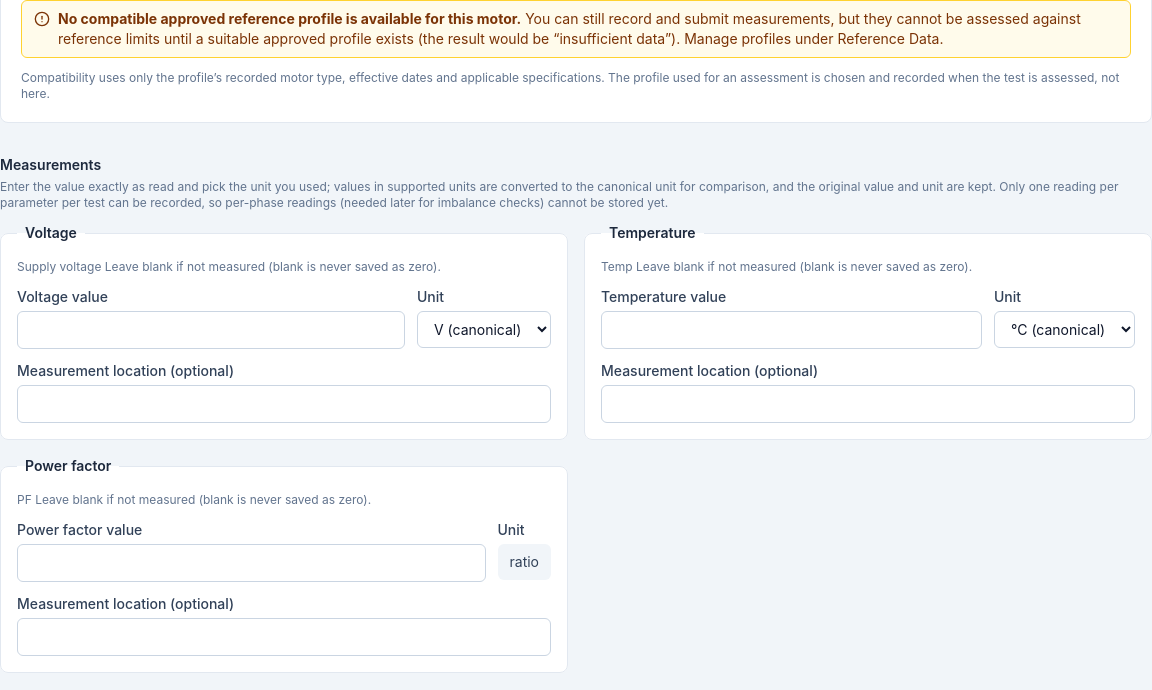
Test case: TestEditor — review and submit › review shows original and normalized values and flags unmeasured parameters; nothing is submitted yet
The width and height of the screenshot is (1152, 690).
(page scrolled)
In the field labelled "Temperature value": (792, 330) x1=601 y1=311 x2=982 y2=349, type "212"
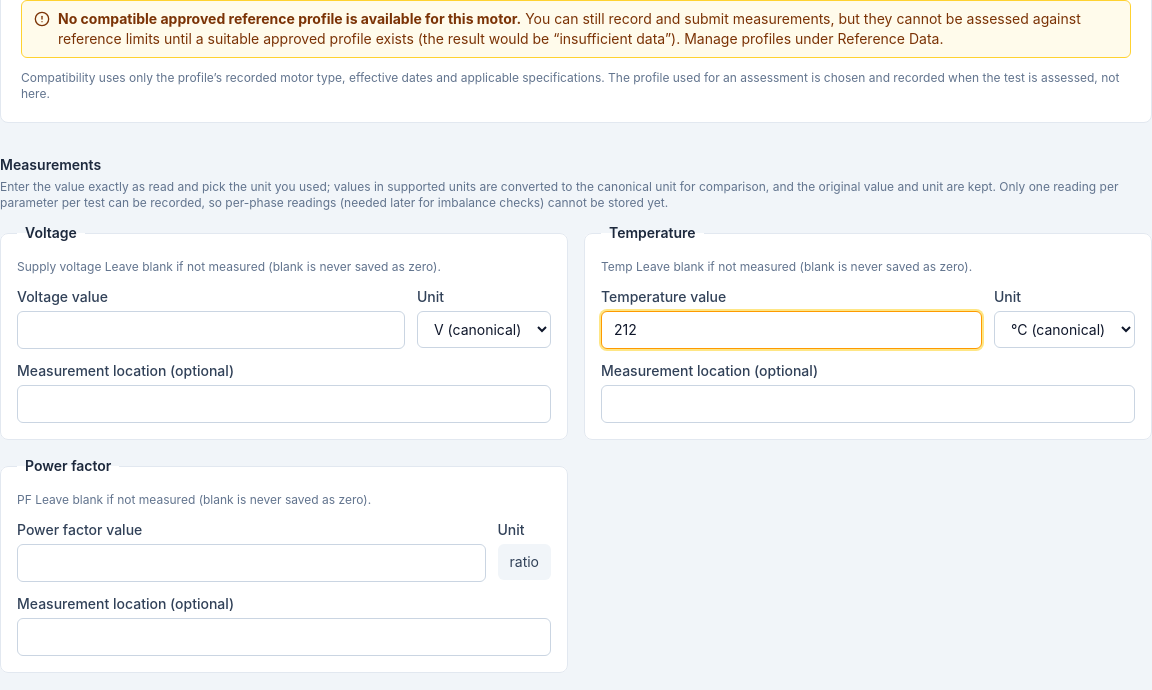
Select "°F" in the 2nd dropdown labelled "Unit": (1064, 330) x1=994 y1=311 x2=1135 y2=348
(page scrolled)
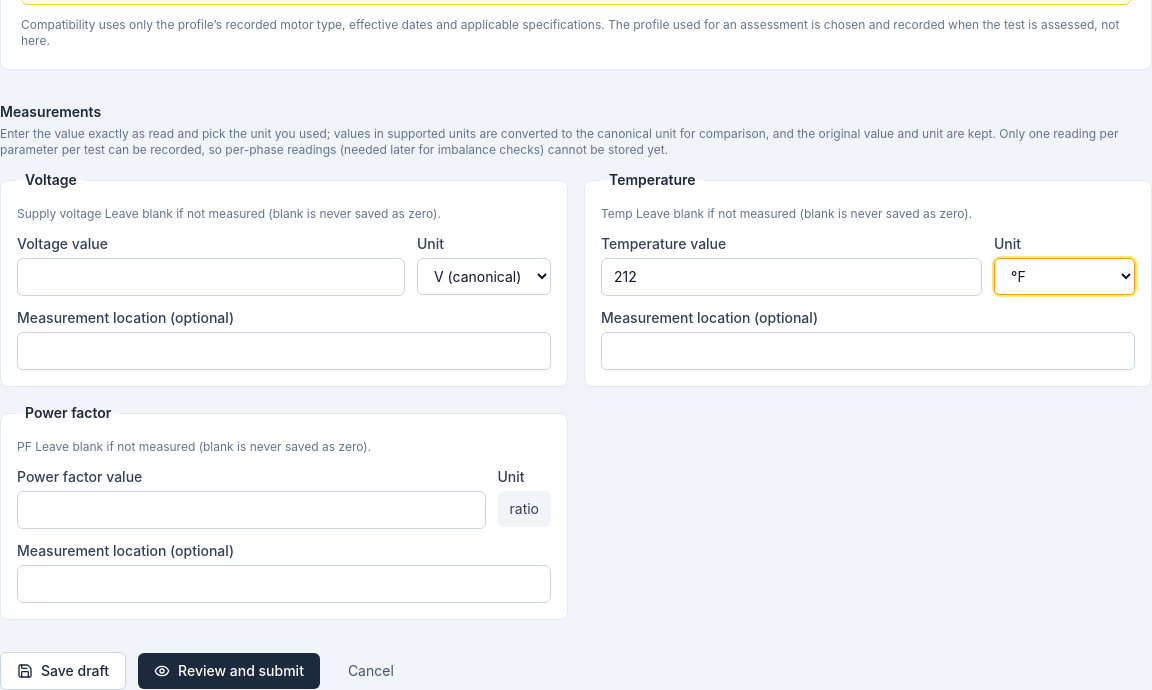
Click the button "Review and submit": click(229, 671) x1=138 y1=653 x2=320 y2=689
(page scrolled)
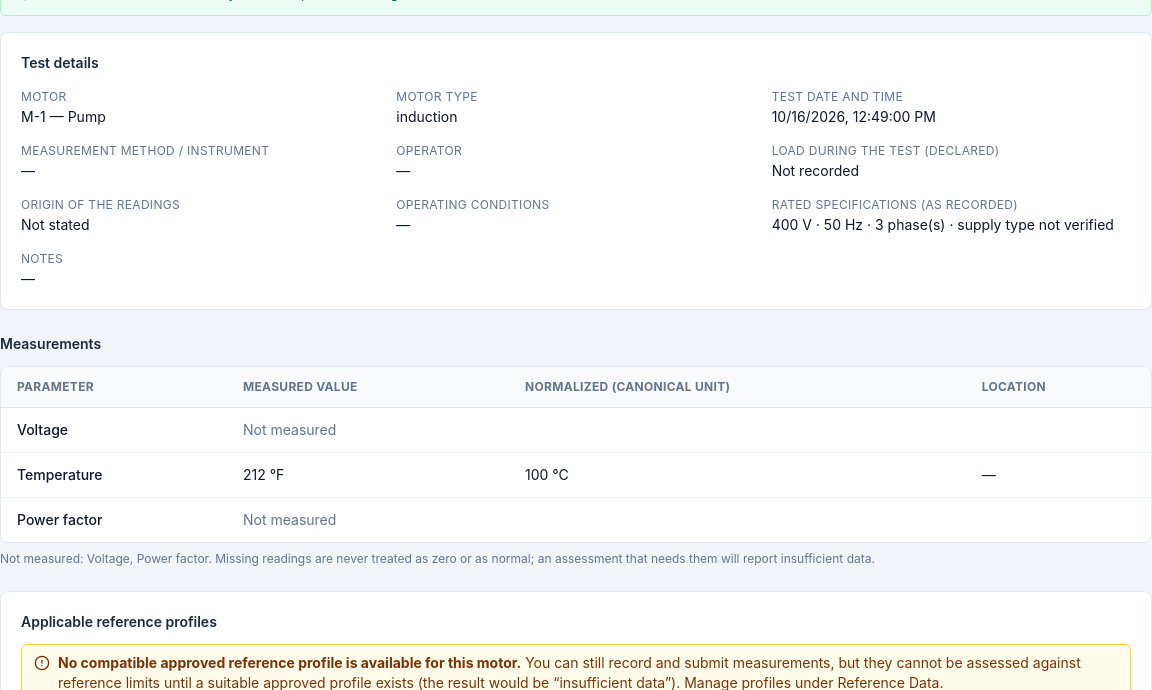
expect the 1st text "Not measured" is shown: met, box x1=227 y1=408 x2=1151 y2=452
expect the text "212 °F" is shown: met, box x1=227 y1=452 x2=509 y2=498
expect the text "100 °C" is shown: met, box x1=509 y1=452 x2=966 y2=498
